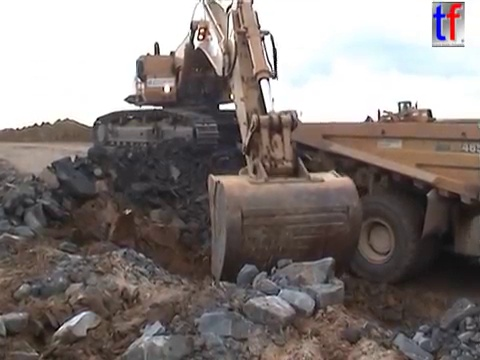excavator: (88, 1, 367, 300)
truck: (286, 117, 480, 289)
wheel loader: (359, 99, 438, 134)
